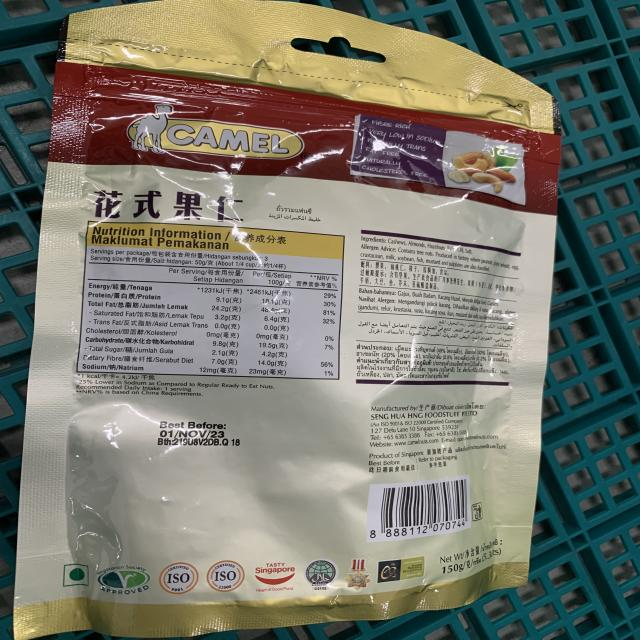object_name: (40, 0, 540, 620)
